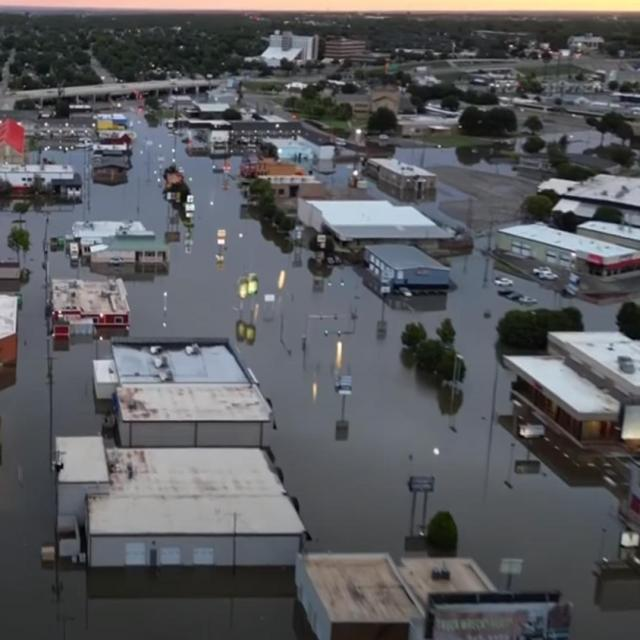flood: (0, 117, 639, 639), (395, 142, 556, 180), (568, 127, 628, 174), (266, 135, 335, 175), (341, 147, 356, 158)
house: (51, 434, 307, 575), (94, 334, 274, 446), (502, 328, 640, 463), (292, 550, 430, 640), (495, 224, 640, 291), (301, 196, 445, 252), (400, 556, 506, 616), (72, 220, 172, 273), (362, 242, 452, 293), (51, 274, 131, 331), (0, 164, 84, 203), (367, 153, 440, 196), (244, 162, 325, 200), (267, 32, 318, 64), (0, 117, 27, 165), (232, 122, 302, 138), (201, 118, 231, 148), (324, 37, 364, 57)
